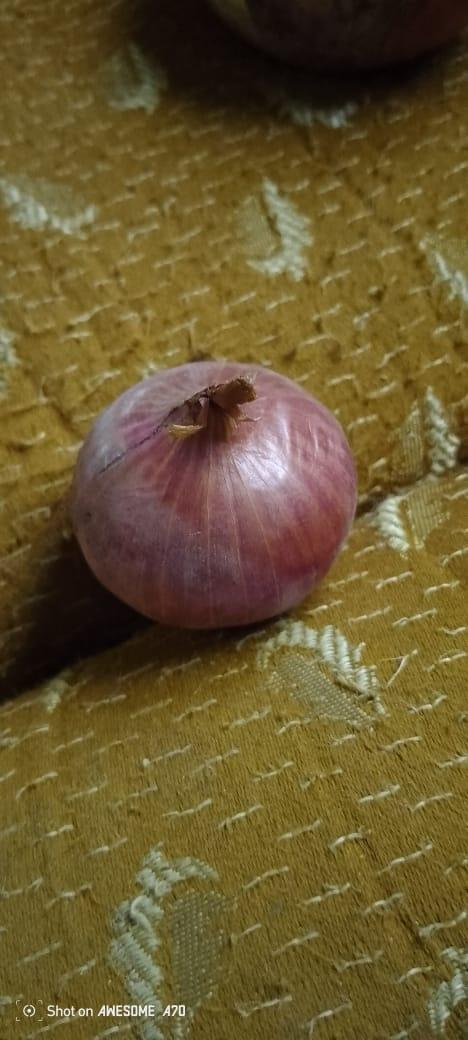non-mango: (67, 351, 362, 627)
